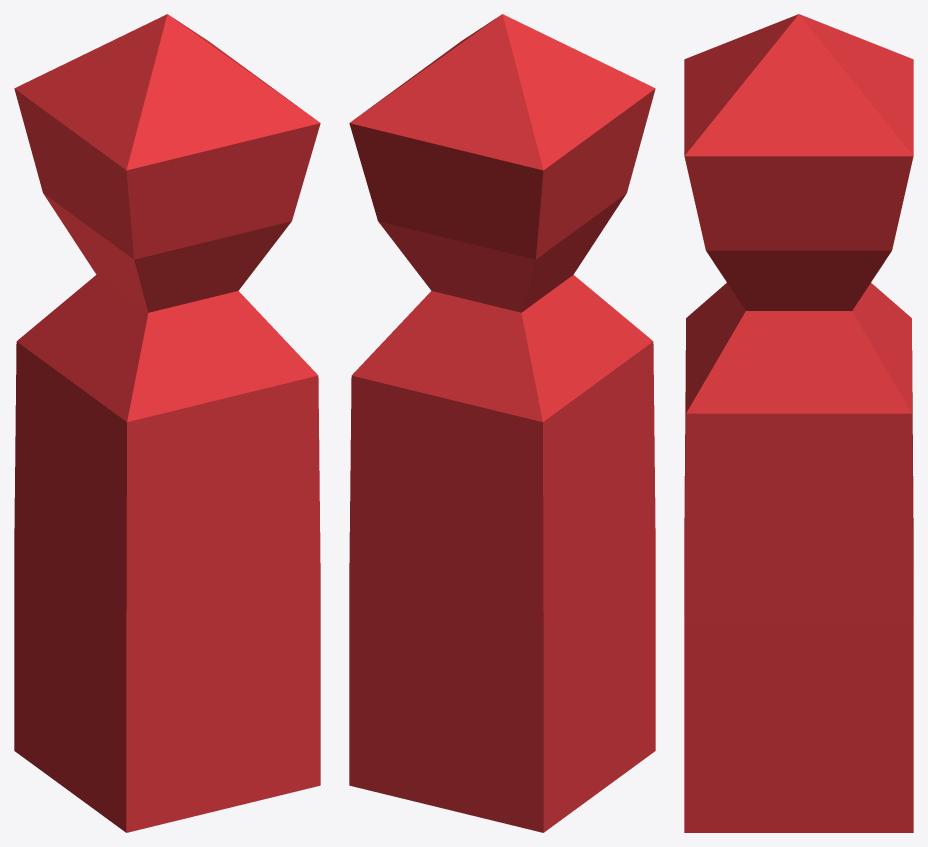
File: RedPiece.glb
The picture shows the model from 3 angles, left to right: view 1: azimuth 30°, elevation 25°; view 2: azimuth 150°, elevation 25°; view 3: azimuth 270°, elevation 25°; orthographic projection. The views are drawn at different scales.
Parts seen in each view (by area): view 1: Cube.001; view 2: Cube.001; view 3: Cube.001.
Part boxes in pixels (x1=…): Cube.001: x1=14, y1=14, x2=320, y2=832; Cube.001: x1=349, y1=14, x2=655, y2=832; Cube.001: x1=684, y1=14, x2=913, y2=832.
Size of the model in its own units: 0.2053 by 0.7619 by 0.2053.
